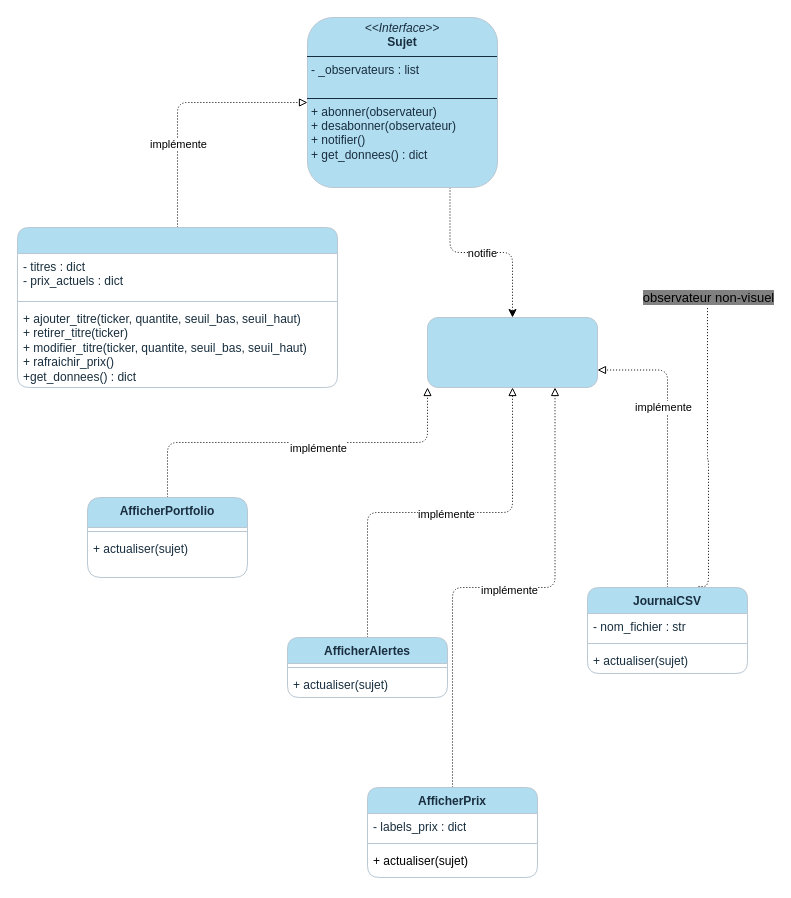
This 791x898 diagram has some shape labels left out. Each missing label, with the box of its shape:
<<Interface>> Observateur + actualiser(sujet): (426, 316, 598, 388)
Portefeuille: (16, 226, 338, 388)
